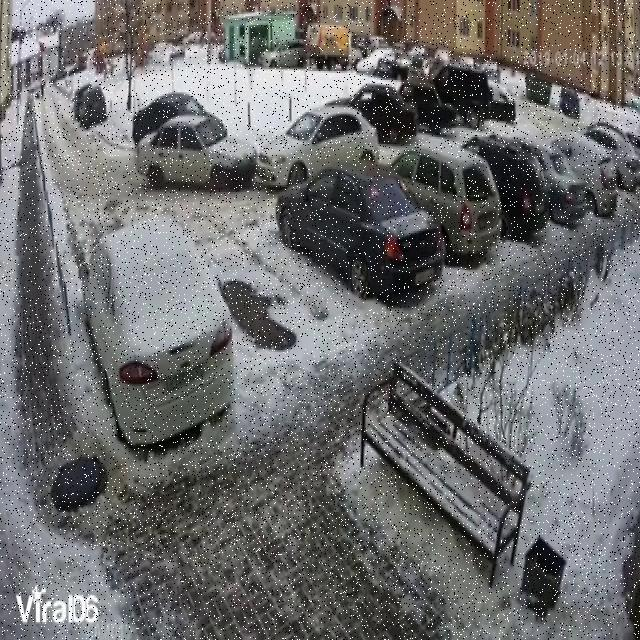low-cars-accident: (126, 120, 373, 196)
